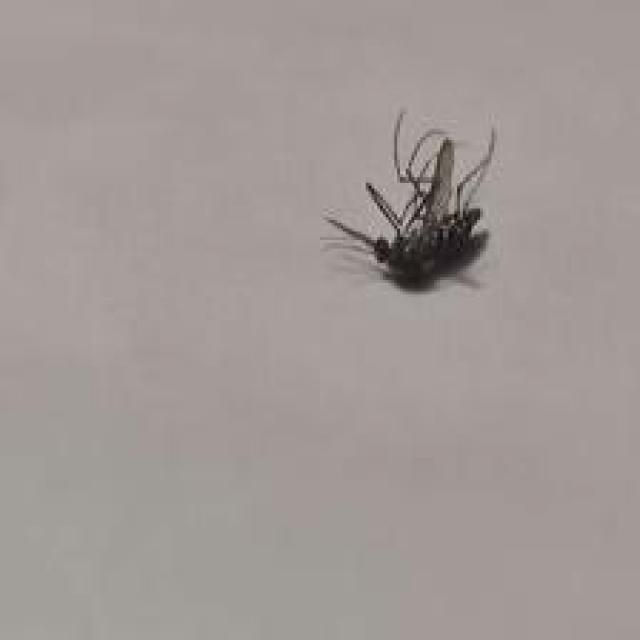Aedes albopictus: (320, 107, 497, 290)
